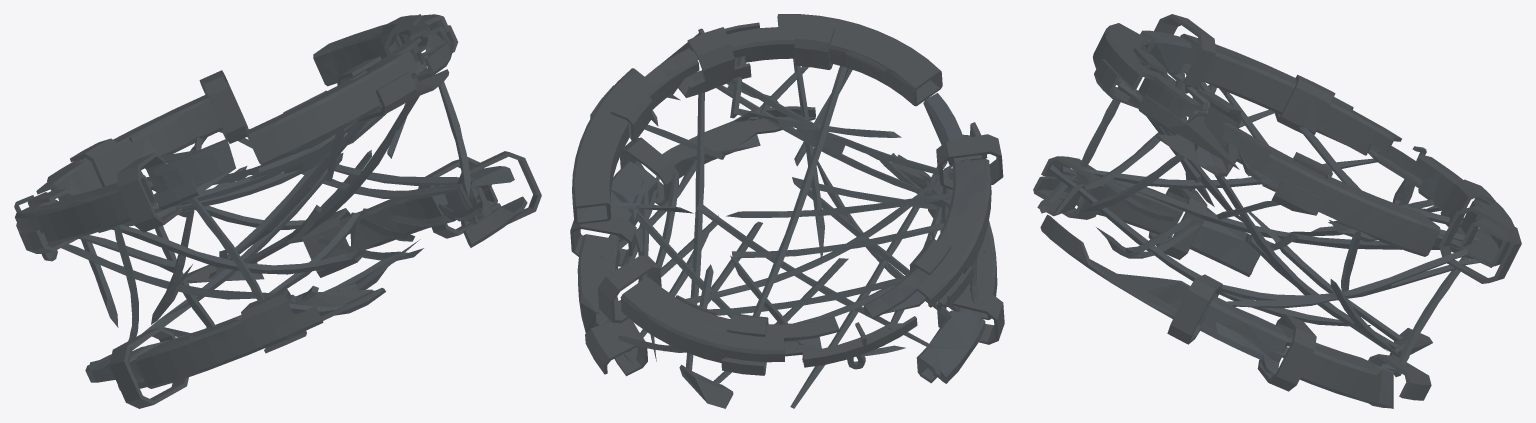
File: halka_harabe.glb
3 views of the same model, side by side, from view 1: azimuth 30°, elevation 25°; view 2: azimuth 150°, elevation 25°; view 3: azimuth 270°, elevation 25° (orthographic). The views are drawn at different scales.
Parts seen in each view (by area): view 1: lod0; view 2: lod0; view 3: lod0.
Part boxes in pixels (x1,y1,x2,y2): lod0: (14, 14, 541, 408); lod0: (570, 14, 1004, 408); lod0: (1033, 14, 1521, 408).
Size of what is drawn, in the model's own units: 390 by 272 by 377.
Materials: 1 (1 with a texture image).
